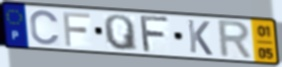C: (28, 8, 62, 46)
F: (139, 14, 172, 54), (61, 10, 92, 48)
K: (186, 18, 215, 57)
Q: (102, 14, 140, 53)
R: (217, 19, 255, 61)
